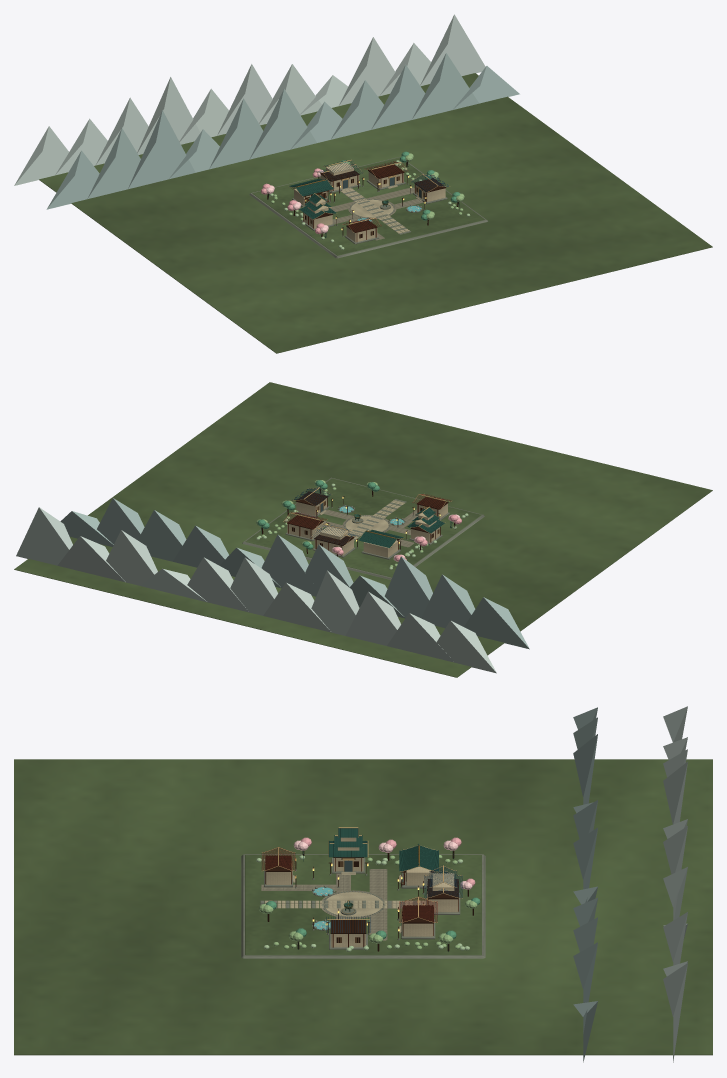
Rendered from museum-village.glb.
The picture shows the model from 3 angles, top to bottom: view 1: azimuth 30°, elevation 25°; view 2: azimuth 150°, elevation 25°; view 3: azimuth 270°, elevation 25°; orthographic projection. The views are drawn at different scales.
Visible parts, largest first — view 1: Batched_Grass, Batched_Mountain, Batched_MountainFar, Batched_Stone, Batched_Plaster, Batched_Wood, Batched_PavingLight, Batched_Jade, Batched_Paving, Batched_Gold, Batched_Blue; view 2: Batched_Grass, Batched_MountainFar, Batched_Mountain, Batched_Plaster, Batched_Stone, Batched_Wood, Batched_Jade, Batched_PavingLight, Batched_Paving, Batched_Blue, Batched_Gold; view 3: Batched_Grass, Batched_Mountain, Batched_MountainFar, Batched_Stone, Batched_Plaster, Batched_Wood, Batched_Paving, Batched_Jade, Batched_PavingLight, Batched_Red, Batched_Blue, Batched_LeafLight (+1 smaller).
Part boxes in pixels (x1,y1,x2,y2): Batched_Grass: (39, 73, 712, 353); Batched_Mountain: (46, 53, 519, 209); Batched_MountainFar: (14, 14, 485, 185); Batched_Stone: (249, 156, 487, 258); Batched_Plaster: (294, 162, 445, 242); Batched_Wood: (267, 161, 458, 238); Batched_PavingLight: (341, 185, 422, 233); Batched_Jade: (268, 162, 459, 237); Batched_Paving: (329, 187, 423, 240); Batched_Gold: (288, 159, 449, 237); Batched_Blue: (316, 160, 449, 191); Batched_Grass: (14, 382, 712, 677); Batched_MountainFar: (16, 507, 496, 673); Batched_Mountain: (60, 498, 529, 649); Batched_Plaster: (287, 498, 447, 557); Batched_Stone: (242, 477, 484, 579); Batched_Wood: (261, 488, 455, 556); Batched_Jade: (261, 488, 452, 547); Batched_PavingLight: (320, 500, 404, 538); Batched_Paving: (313, 509, 417, 547); Batched_Blue: (292, 487, 355, 544); Batched_Gold: (283, 487, 451, 547); Batched_Grass: (14, 759, 712, 1055); Batched_Mountain: (573, 707, 597, 1062); Batched_MountainFar: (663, 706, 687, 1062); Batched_Stone: (241, 854, 485, 958); Batched_Plaster: (266, 837, 458, 947); Batched_Wood: (265, 850, 473, 951); Batched_Paving: (261, 869, 421, 940); Batched_Jade: (298, 828, 453, 951); Batched_PavingLight: (264, 872, 426, 933); Batched_Red: (262, 848, 437, 922); Batched_Blue: (326, 866, 462, 932); Batched_LeafLight: (258, 855, 477, 949).
Size of the model in its own units: 152 by 22.41 by 140.
26 materials, 14 textured.
